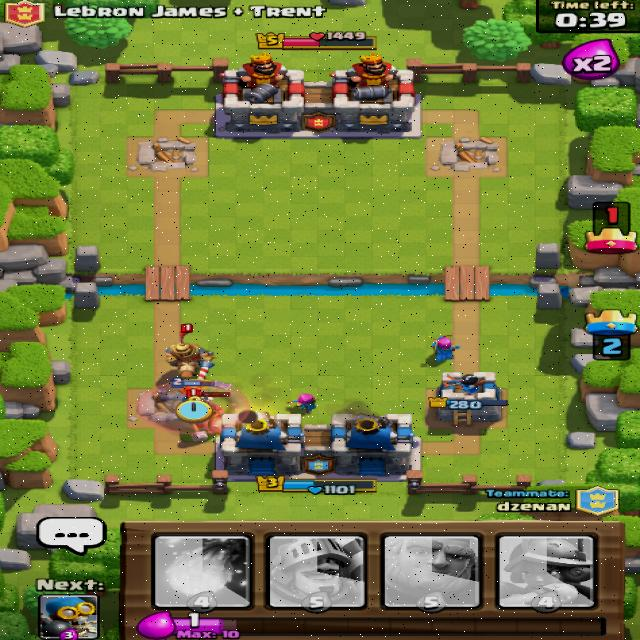Enemy-HogRider: (181, 388, 231, 442)
Enemy-Prince: (163, 322, 215, 380)
Player-Archer: (425, 333, 462, 362), (284, 392, 318, 416)
Player-Valkyrie: (170, 378, 215, 400)
